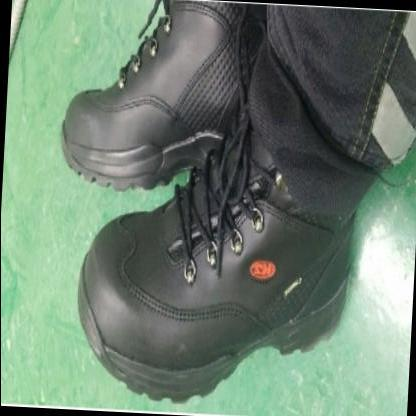safety-shoe: (78, 67, 383, 415)
